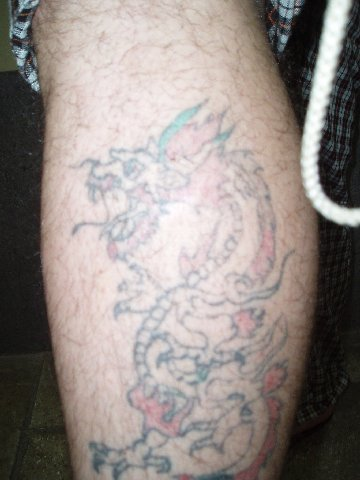tatu6_drakon: (58, 86, 313, 478)
